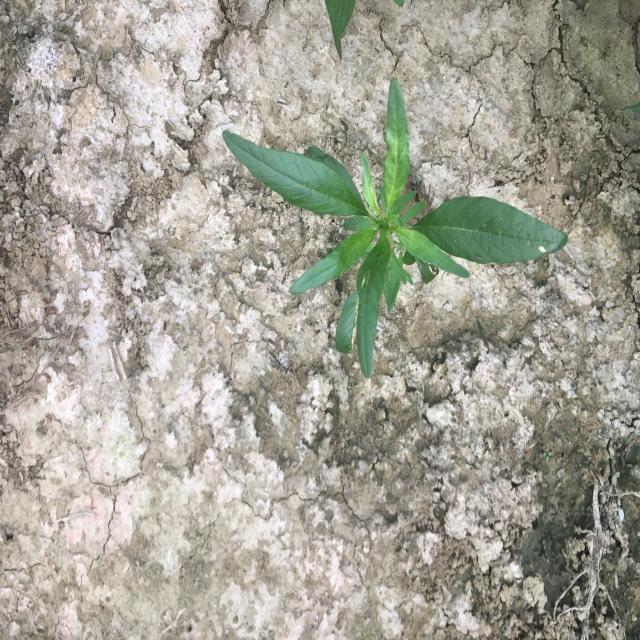Waterhemp: (220, 74, 571, 381)
